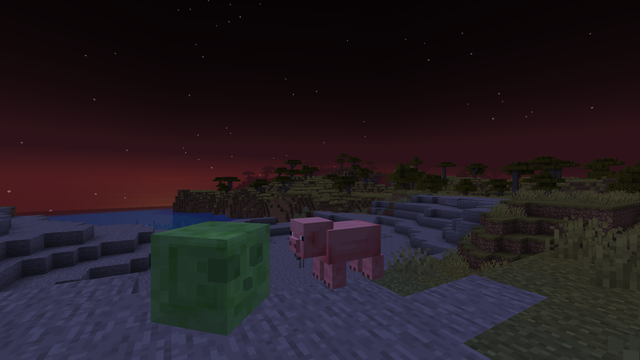cochons: (308, 217, 383, 292)
slimes: (169, 217, 269, 341)
squelettes: (296, 240, 303, 269)
